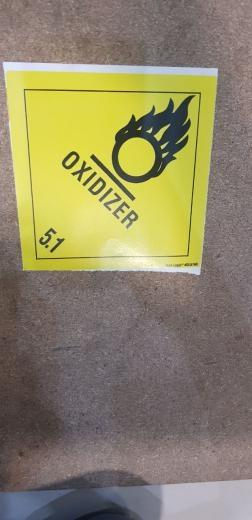oxidizer: (4, 70, 216, 273)
